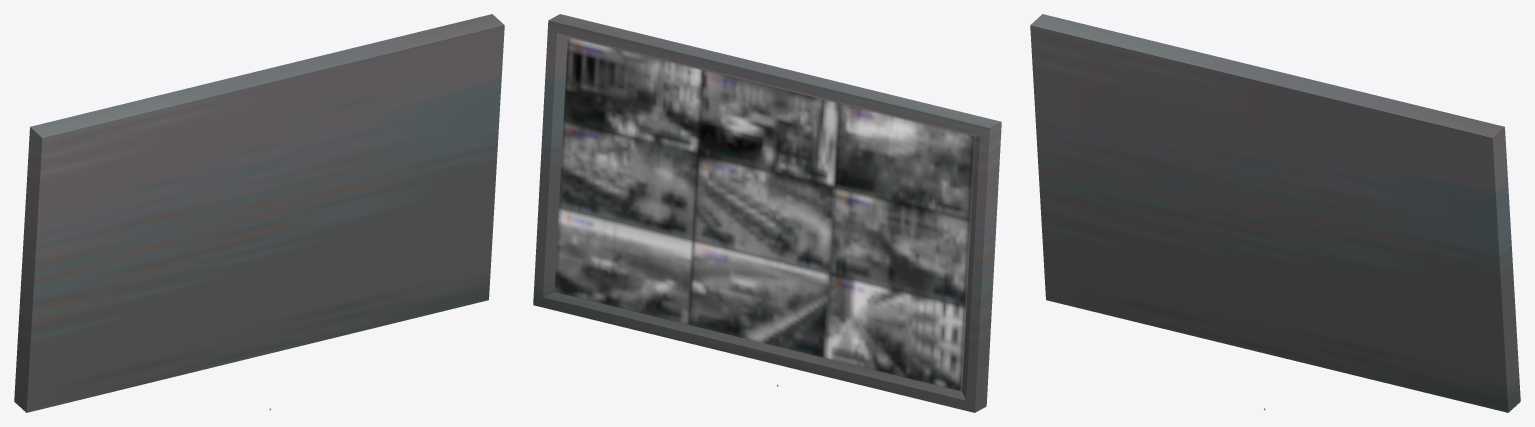
The picture shows the model from 3 angles, left to right: view 1: azimuth 30°, elevation 25°; view 2: azimuth 150°, elevation 25°; view 3: azimuth 330°, elevation 25°; orthographic projection. The views are drawn at different scales.
Parts seen in each view (by area): view 1: CommandCenterLikeFurnitureMonitor00; view 2: CommandCenterLikeFurnitureMonitor00; view 3: CommandCenterLikeFurnitureMonitor00.
Part boxes in pixels (x1,y1,x2,y2): CommandCenterLikeFurnitureMonitor00: (14,14,504,412); CommandCenterLikeFurnitureMonitor00: (533,14,1001,412); CommandCenterLikeFurnitureMonitor00: (1030,14,1520,412).
Size of what is drawn, in the model's own units: 1.23 by 0.8488 by 0.1302.
Materials: 1 (1 with a texture image).
